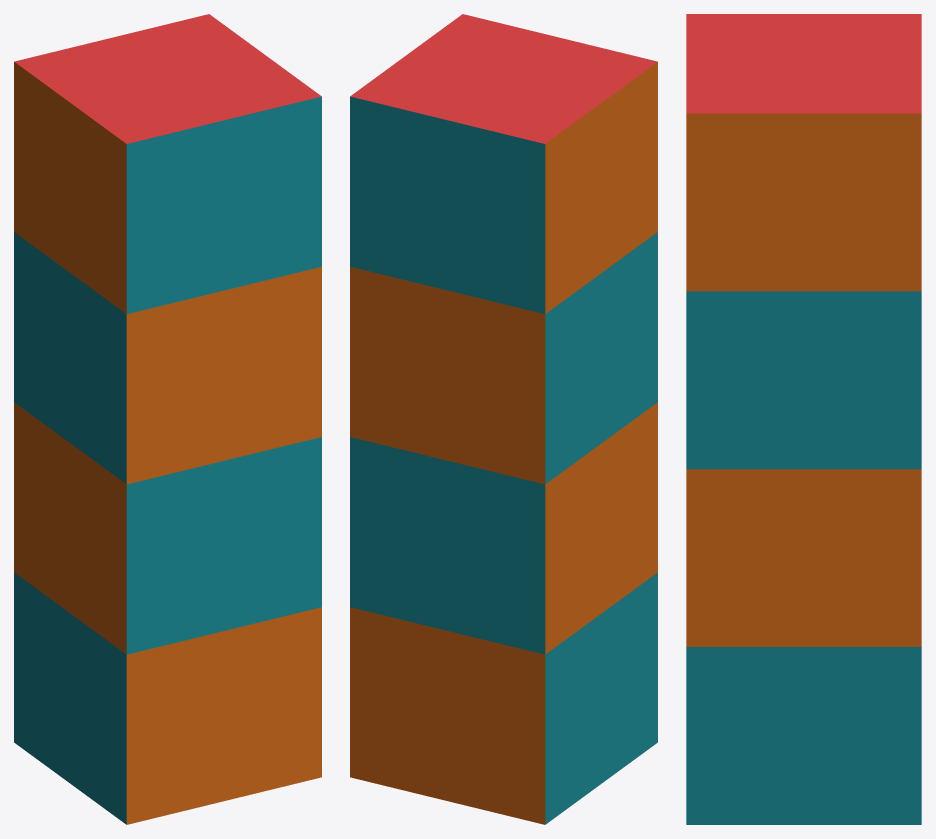
File: column-obj.glb
3 renders of one model, left to right at view 1: azimuth 30°, elevation 25°; view 2: azimuth 150°, elevation 25°; view 3: azimuth 270°, elevation 25°, orthographic. The views are drawn at different scales.
Visible parts, largest first — view 1: Column; view 2: Column; view 3: Column.
Boxes of the visible parts, x1,y1,x2,y2 form: Column: [14, 14, 321, 824]; Column: [350, 14, 657, 824]; Column: [686, 14, 921, 824].
Bounding box in the file's own units: 0.6 × 2 × 0.6.
2 materials, 1 textured.
